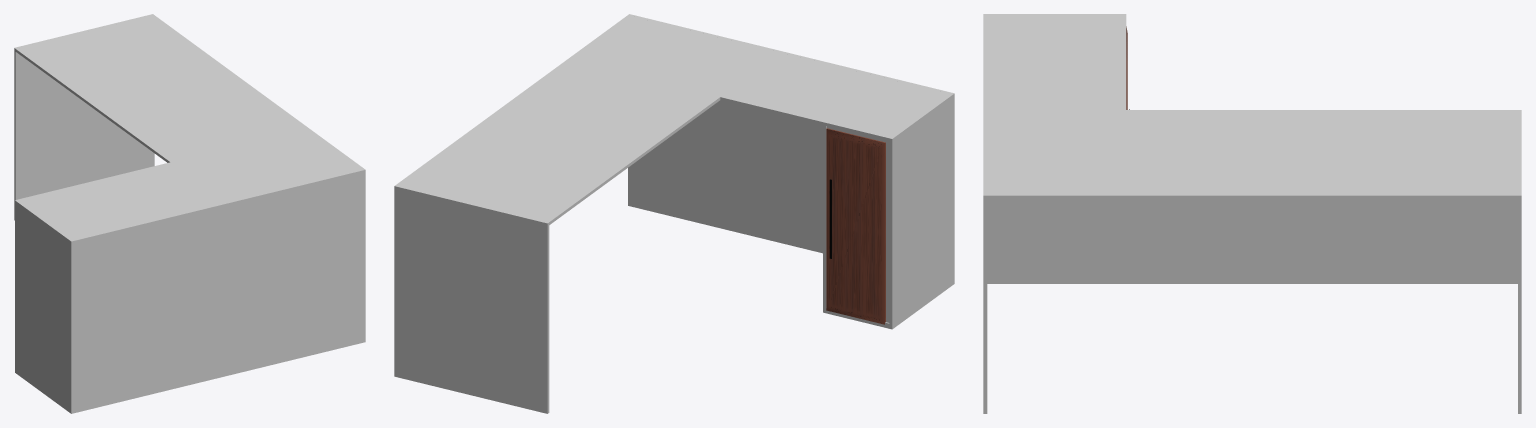
Rendered from Escrivaninha.fbx.
3 renders of one model, left to right at view 1: azimuth 30°, elevation 25°; view 2: azimuth 150°, elevation 25°; view 3: azimuth 270°, elevation 25°, orthographic. The views are drawn at different scales.
Visible parts, largest first — view 1: Box006, Box007, Box008, Box004, Box009; view 2: Box007, Box004, Box006, Box008, Box009, Portas 004, Box010; view 3: Box005, Box007, Box008, Box006, Box004.
Boxes of the visible parts, box(x1,y1,x2,y2) form: Box006: box(69, 168, 365, 413); Box007: box(14, 15, 363, 202); Box008: box(15, 129, 363, 244); Box004: box(14, 14, 154, 220); Box009: box(15, 199, 73, 412); Box007: box(396, 14, 780, 225); Box004: box(394, 185, 549, 413); Box006: box(628, 14, 954, 284); Box008: box(567, 16, 952, 141); Box009: box(889, 92, 954, 329); Portas 004: box(826, 128, 885, 324); Box010: box(823, 125, 889, 328); Box005: box(983, 195, 1517, 283); Box007: box(987, 110, 1517, 195); Box008: box(987, 14, 1126, 195); Box006: box(983, 15, 987, 413); Box004: box(1518, 110, 1521, 413).
Size of the model in its own units: 107 by 60.11 by 134.
